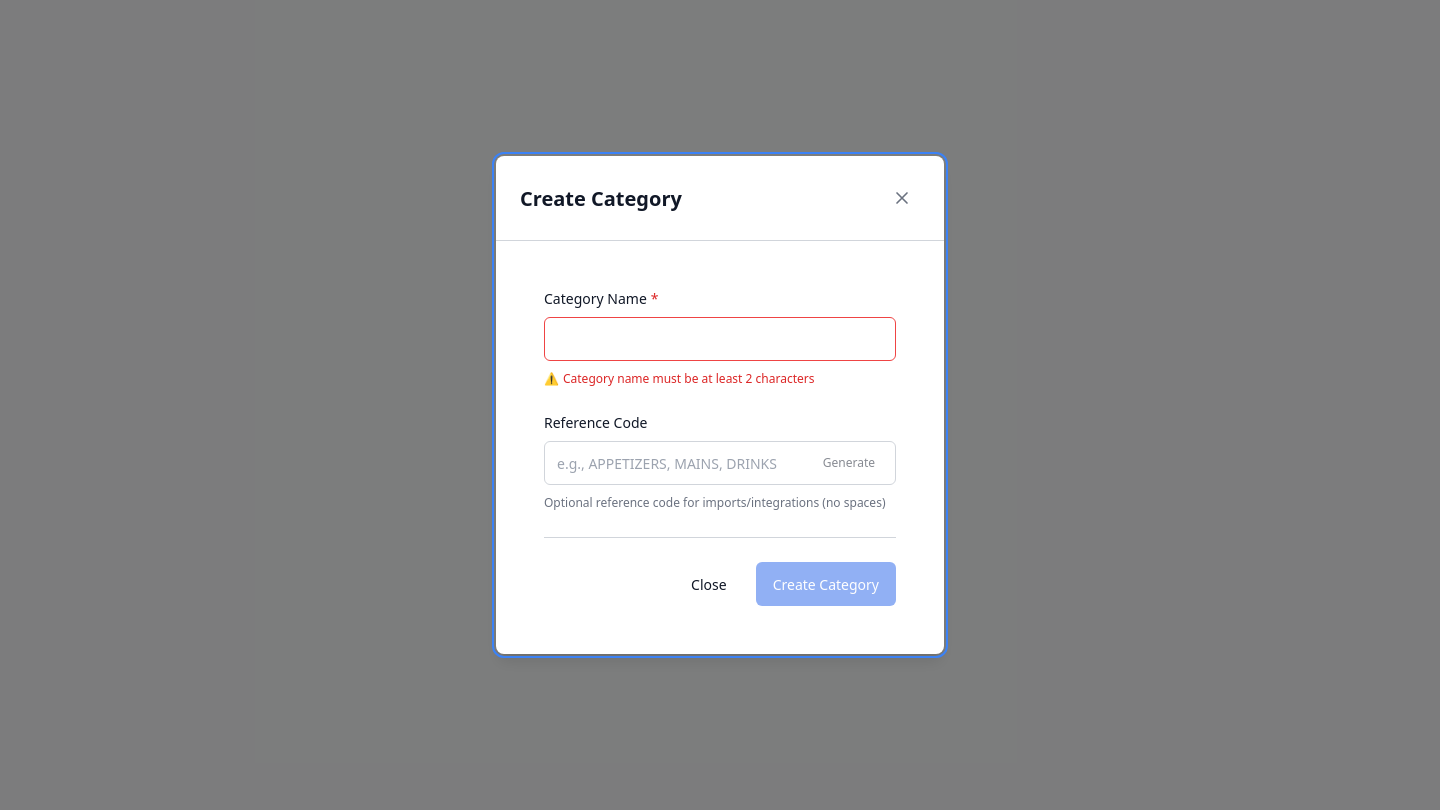
Test: CategoryCreateModal › should enable submit button when form is valid
Type "Desserts" into the field labelled "Category Name". click: (720, 339)
box: 544,317 -> 896,361
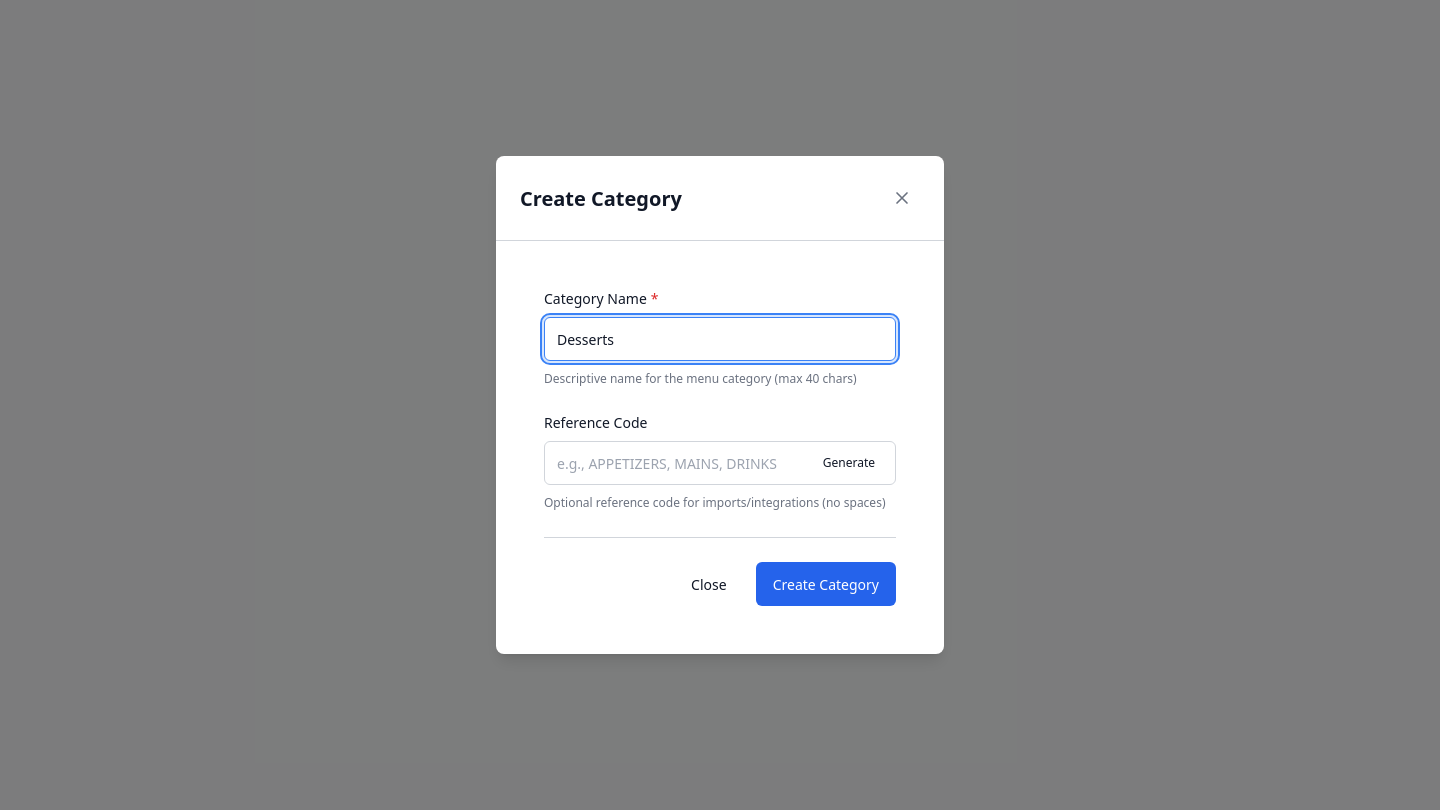
Expected: the button "Create Category" is enabled, 756,562 -> 896,606
